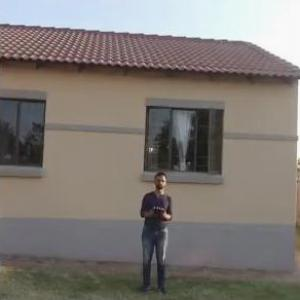follow: (132, 167, 176, 299)
